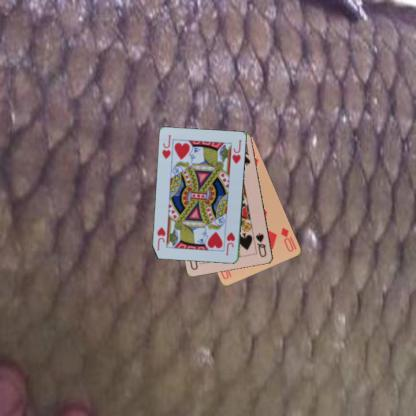10d: (279, 225, 298, 253)
Jh: (160, 132, 172, 160), (224, 230, 236, 256)
Qs: (253, 231, 268, 258)
